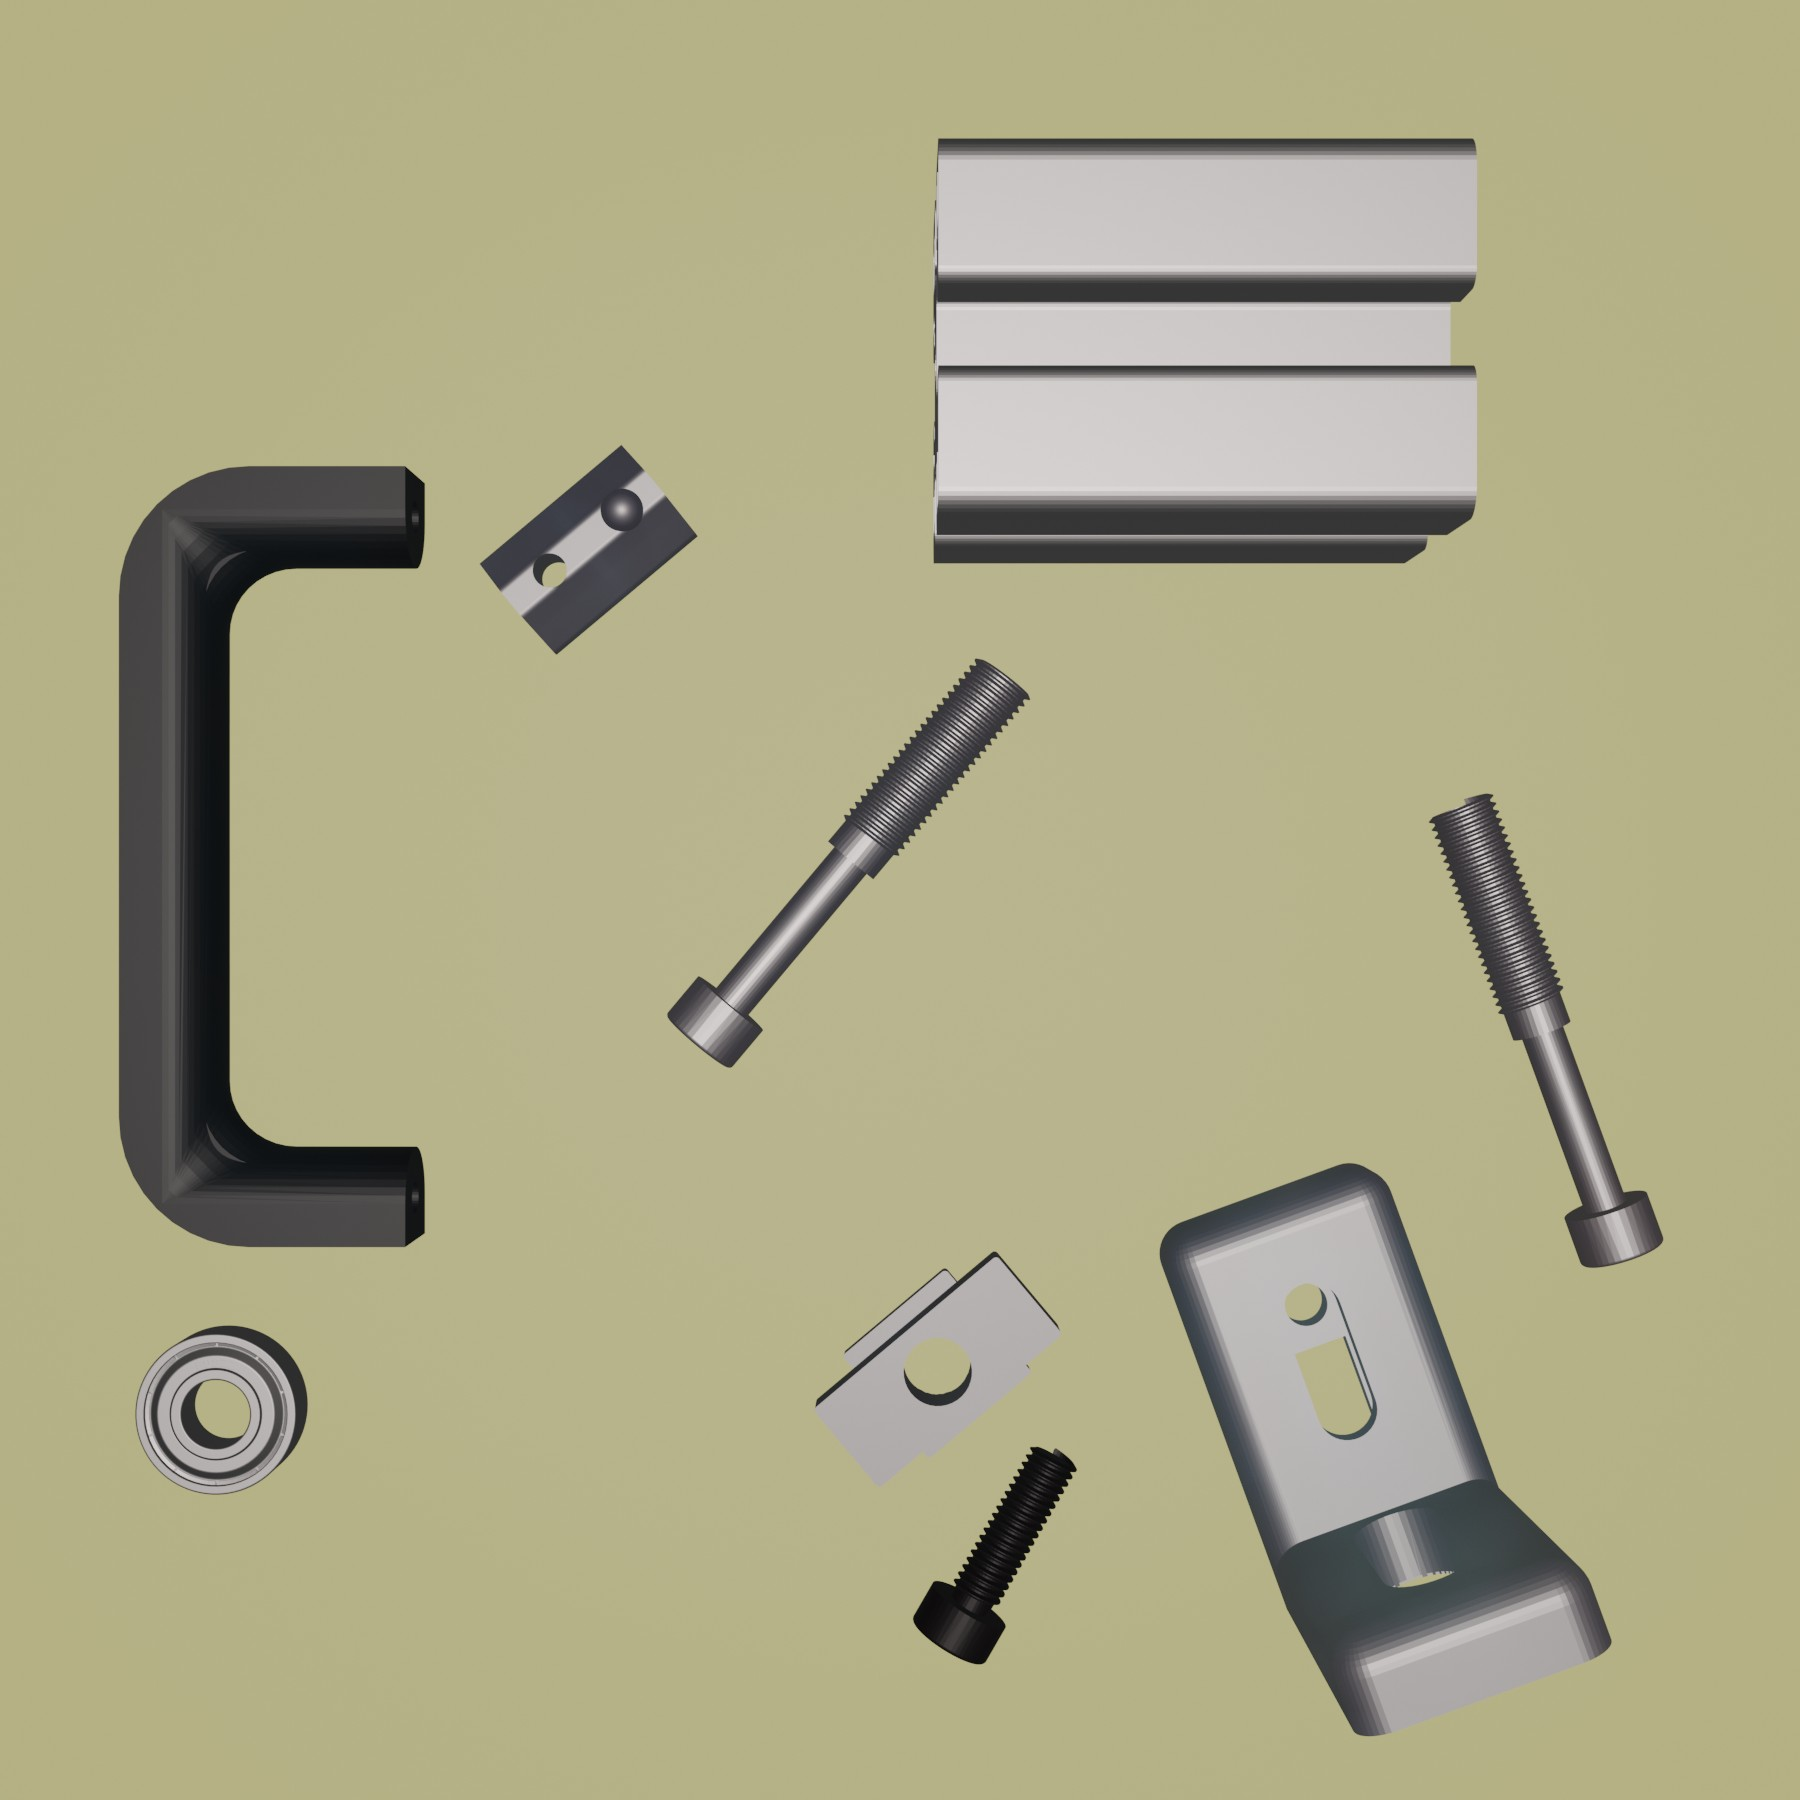Aluminium Extension: (926, 137, 1484, 570)
Ball Bearing: (129, 1322, 308, 1498)
Multiwinkel: (1155, 1160, 1614, 1739)
Pull Handle: (112, 458, 429, 1249)
Shoulder Socket Head Cap Screw: (664, 653, 1032, 1071), (1424, 791, 1666, 1269)
Socket Head Cap Screw: (912, 1439, 1080, 1666)
T Nut Square: (813, 1249, 1062, 1492)
T Spring Nut: (476, 442, 701, 654)
